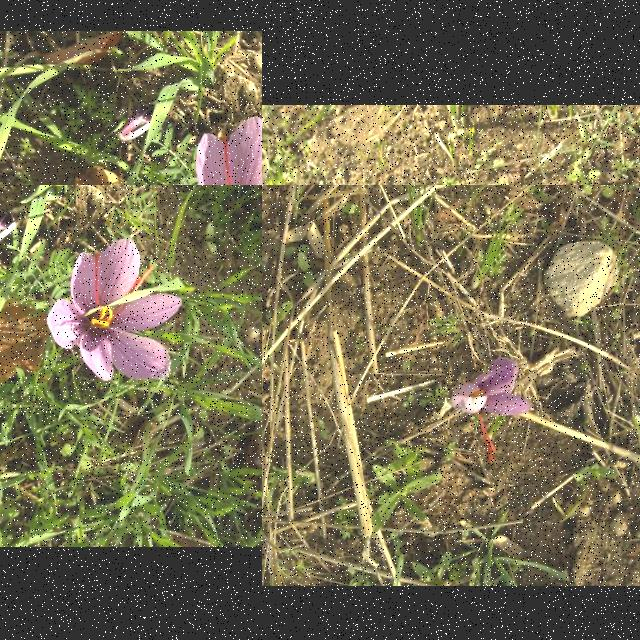flower: (48, 238, 180, 382), (451, 359, 534, 463), (158, 116, 262, 185)
